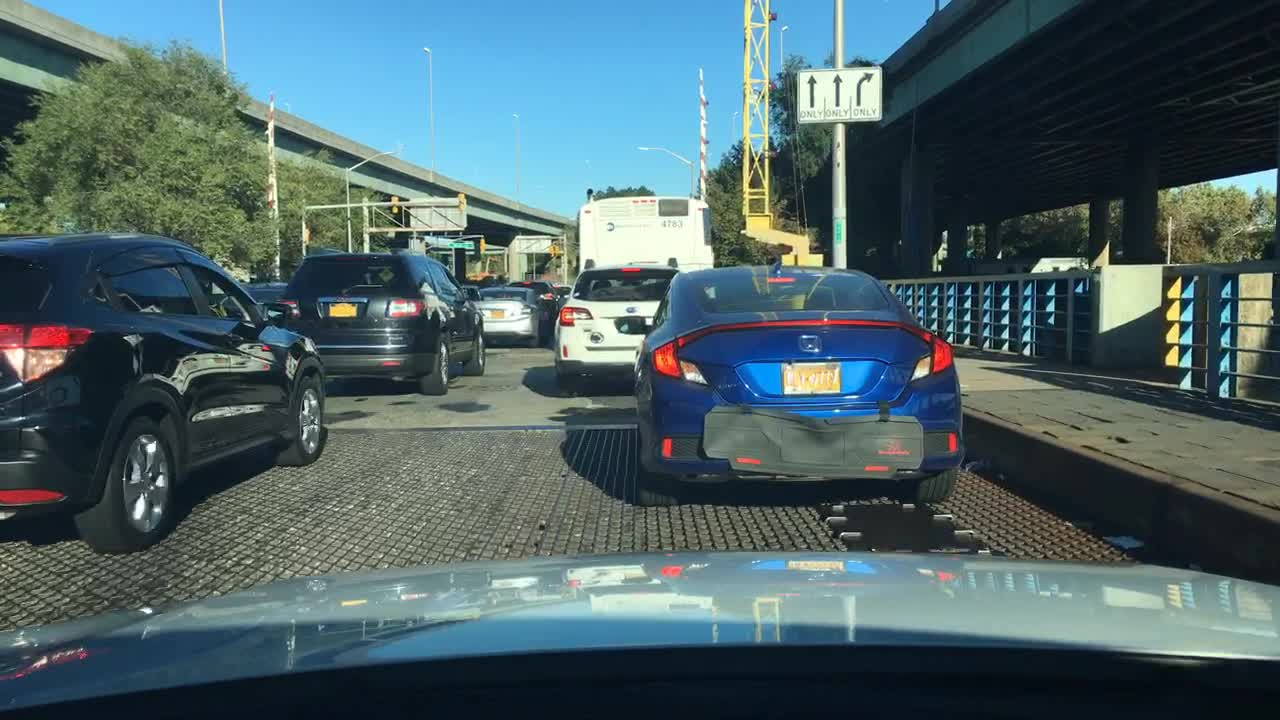bus: (575, 187, 715, 273)
car: (0, 230, 327, 555), (630, 261, 964, 505), (286, 249, 487, 397), (551, 264, 681, 388), (472, 286, 543, 348), (504, 280, 558, 343), (232, 277, 296, 328), (553, 284, 572, 304)
traffic light: (479, 239, 484, 253), (551, 242, 556, 256)
traffic sign: (796, 64, 882, 124), (408, 196, 467, 228), (448, 240, 474, 248)
truck: (501, 230, 567, 288)
